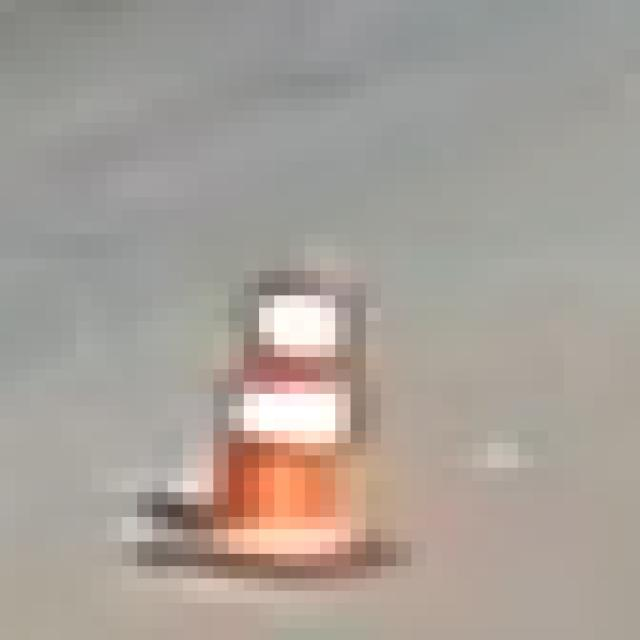small_cone: (108, 244, 445, 619)
